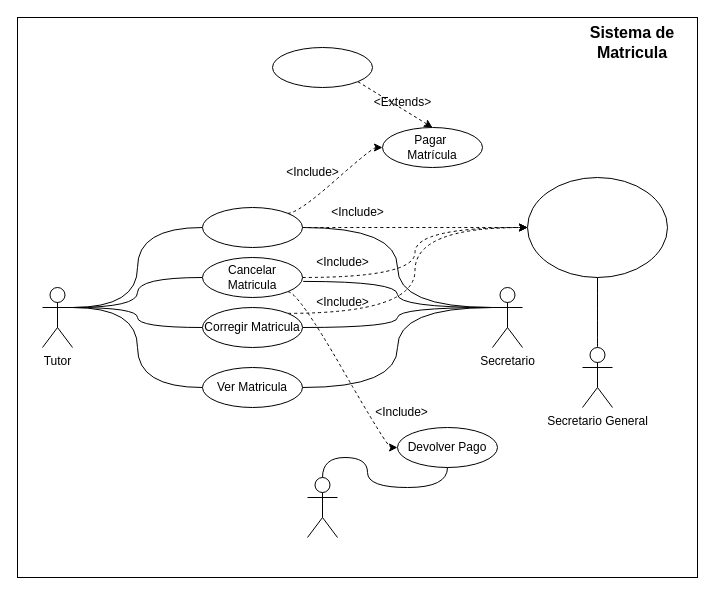
This 715x595 diagram has some shape labels left out. The centre of each missing label's shape, as x and y in pixels:
Contador: (322,507)
Matricular Estudiante: (252,227)
Registrar Estudiante en La Secretaría de Educación: (597,227)
Solicitar Beca: (322,67)
